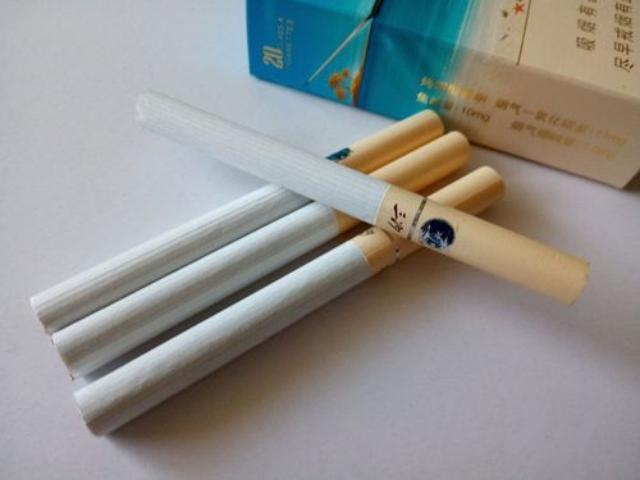Smoking: (75, 165, 507, 435), (51, 132, 473, 380), (135, 86, 591, 308), (29, 110, 444, 336)
